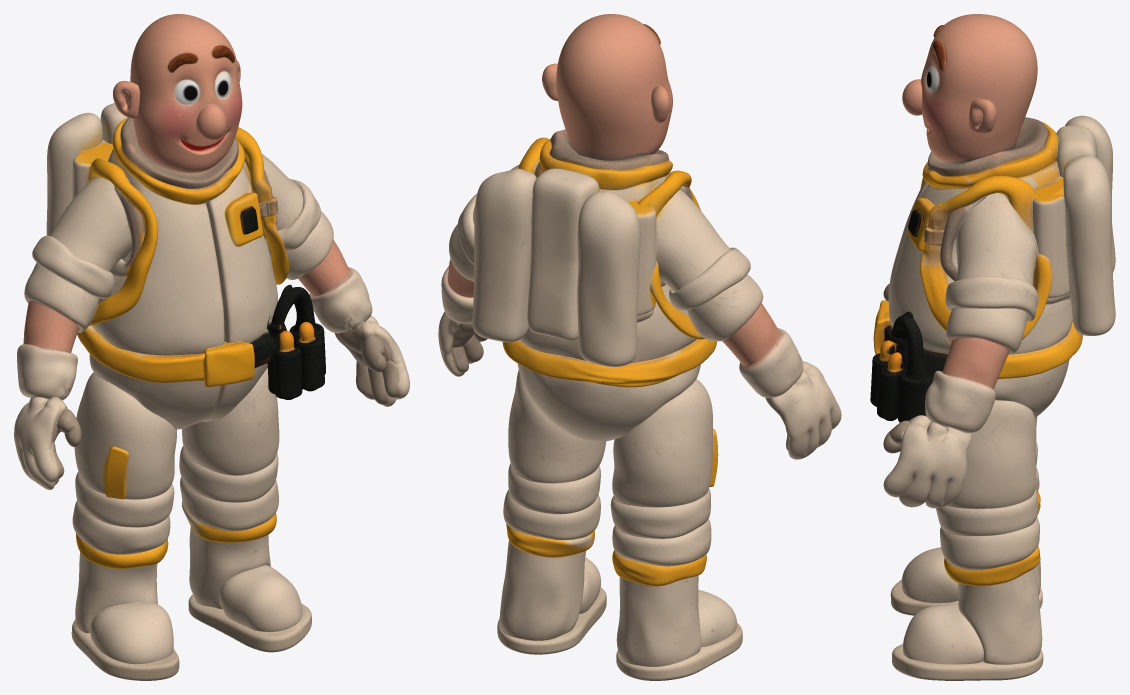
Rendered from A5-clay-suit.glb.
The picture shows the model from 3 angles, left to right: view 1: azimuth 30°, elevation 25°; view 2: azimuth 150°, elevation 25°; view 3: azimuth 270°, elevation 25°; orthographic projection.
Bounding box in the file's own units: 1.21 × 1.9 × 0.6822.
1 material, 1 textured.
